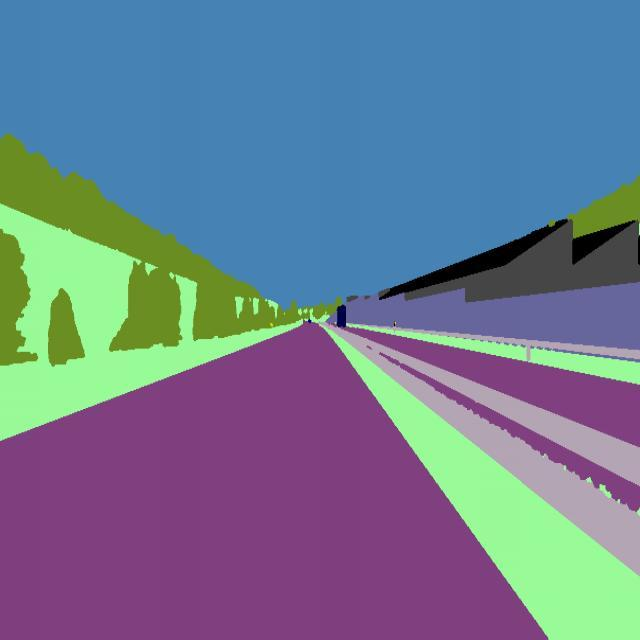safe: (334, 301, 348, 333)
